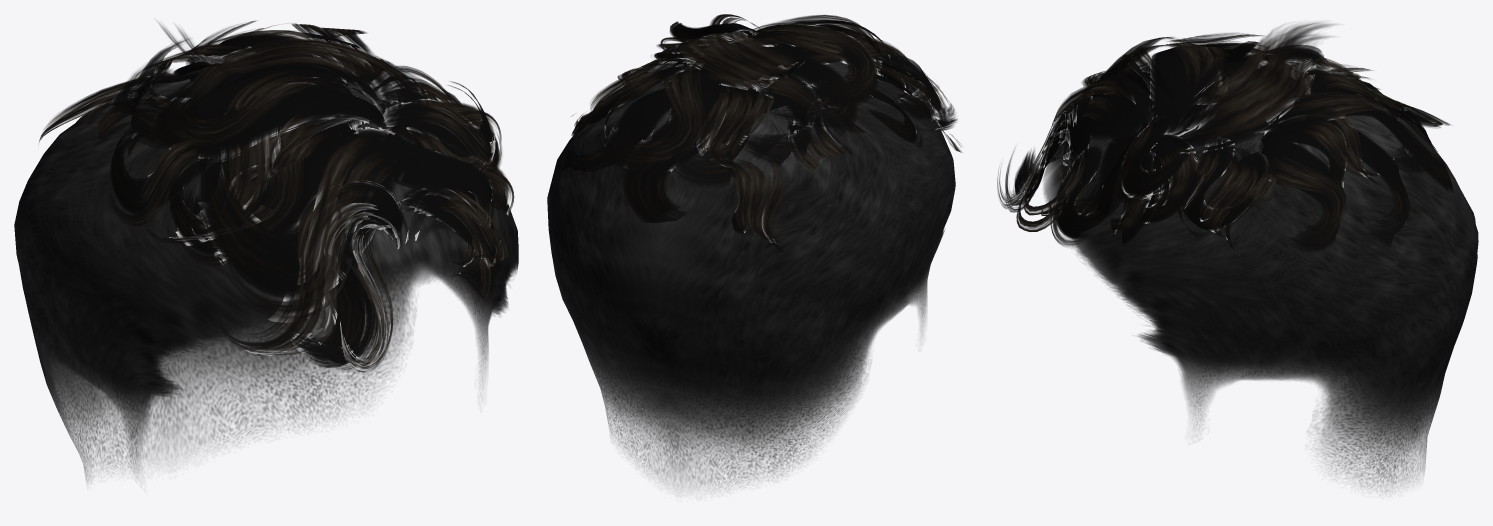
The model's file is TriangleWavySidePart.glb.
The picture shows the model from 3 angles, left to right: view 1: azimuth 30°, elevation 25°; view 2: azimuth 150°, elevation 25°; view 3: azimuth 270°, elevation 25°; orthographic projection. The views are drawn at different scales.
Parts seen in each view (by area): view 1: Scalp Side Part, TRIANGLE - WAVY - SIDE PART.004, TRIANGLE - WAVY - SIDE PART.032, TRIANGLE - WAVY - SIDE PART.031, TRIANGLE - WAVY - SIDE PART.009, TRIANGLE - WAVY - SIDE PART.011, TRIANGLE - WAVY - SIDE PART.033, TRIANGLE - WAVY - SIDE PART.029, TRIANGLE - WAVY - SIDE PART.023, TRIANGLE - WAVY - SIDE PART.005, TRIANGLE - WAVY - SIDE PART.016, TRIANGLE - WAVY - SIDE PART.006 (+17 smaller); view 2: Scalp Side Part, TRIANGLE - WAVY - SIDE PART.011, TRIANGLE - WAVY - SIDE PART.019, TRIANGLE - WAVY - SIDE PART.009, TRIANGLE - WAVY - SIDE PART.020, TRIANGLE - WAVY - SIDE PART.018, TRIANGLE - WAVY - SIDE PART.025, TRIANGLE - WAVY - SIDE PART.026, TRIANGLE - WAVY - SIDE PART.016, TRIANGLE - WAVY - SIDE PART.013, TRIANGLE - WAVY - SIDE PART.033, TRIANGLE - WAVY - SIDE PART.017 (+8 smaller); view 3: Scalp Side Part, TRIANGLE - WAVY - SIDE PART.011, TRIANGLE - WAVY - SIDE PART.009, TRIANGLE - WAVY - SIDE PART.002, TRIANGLE - WAVY - SIDE PART.004, TRIANGLE - WAVY - SIDE PART.017, TRIANGLE - WAVY - SIDE PART.019, TRIANGLE - WAVY - SIDE PART.015, TRIANGLE - WAVY - SIDE PART.005, TRIANGLE - WAVY - SIDE PART.031, TRIANGLE - WAVY - SIDE PART.003, TRIANGLE - WAVY - SIDE PART.014 (+15 smaller).
Part boxes in pixels (x1,y1,x2,y2): Scalp Side Part: [14, 67, 518, 482]; TRIANGLE - WAVY - SIDE PART.004: [199, 127, 420, 322]; TRIANGLE - WAVY - SIDE PART.032: [219, 182, 407, 355]; TRIANGLE - WAVY - SIDE PART.031: [292, 181, 402, 372]; TRIANGLE - WAVY - SIDE PART.009: [154, 76, 386, 156]; TRIANGLE - WAVY - SIDE PART.011: [138, 23, 430, 128]; TRIANGLE - WAVY - SIDE PART.033: [145, 69, 368, 245]; TRIANGLE - WAVY - SIDE PART.029: [184, 117, 357, 251]; TRIANGLE - WAVY - SIDE PART.023: [109, 130, 204, 226]; TRIANGLE - WAVY - SIDE PART.005: [383, 81, 501, 172]; TRIANGLE - WAVY - SIDE PART.016: [129, 66, 351, 149]; TRIANGLE - WAVY - SIDE PART.006: [266, 97, 368, 187]; Scalp Side Part: [547, 61, 955, 490]; TRIANGLE - WAVY - SIDE PART.011: [670, 31, 804, 188]; TRIANGLE - WAVY - SIDE PART.019: [599, 63, 726, 172]; TRIANGLE - WAVY - SIDE PART.009: [746, 22, 878, 107]; TRIANGLE - WAVY - SIDE PART.020: [697, 82, 774, 166]; TRIANGLE - WAVY - SIDE PART.018: [690, 59, 821, 166]; TRIANGLE - WAVY - SIDE PART.025: [618, 116, 708, 222]; TRIANGLE - WAVY - SIDE PART.026: [705, 159, 786, 252]; TRIANGLE - WAVY - SIDE PART.016: [765, 45, 857, 129]; TRIANGLE - WAVY - SIDE PART.013: [561, 88, 671, 171]; TRIANGLE - WAVY - SIDE PART.033: [756, 30, 950, 130]; TRIANGLE - WAVY - SIDE PART.017: [590, 61, 686, 128]; Scalp Side Part: [1043, 65, 1478, 492]; TRIANGLE - WAVY - SIDE PART.011: [1166, 22, 1441, 153]; TRIANGLE - WAVY - SIDE PART.009: [1149, 33, 1272, 135]; TRIANGLE - WAVY - SIDE PART.002: [1254, 142, 1346, 252]; TRIANGLE - WAVY - SIDE PART.004: [1042, 37, 1175, 154]; TRIANGLE - WAVY - SIDE PART.017: [1261, 108, 1380, 187]; TRIANGLE - WAVY - SIDE PART.019: [1258, 92, 1437, 174]; TRIANGLE - WAVY - SIDE PART.015: [1200, 147, 1277, 250]; TRIANGLE - WAVY - SIDE PART.005: [1116, 115, 1190, 205]; TRIANGLE - WAVY - SIDE PART.031: [997, 103, 1092, 212]; TRIANGLE - WAVY - SIDE PART.003: [1050, 145, 1123, 246]; TRIANGLE - WAVY - SIDE PART.014: [1139, 134, 1202, 223].
Bounding box in the file's own units: 0.2096 × 0.2596 × 0.2518.
3 materials, 3 textured.
